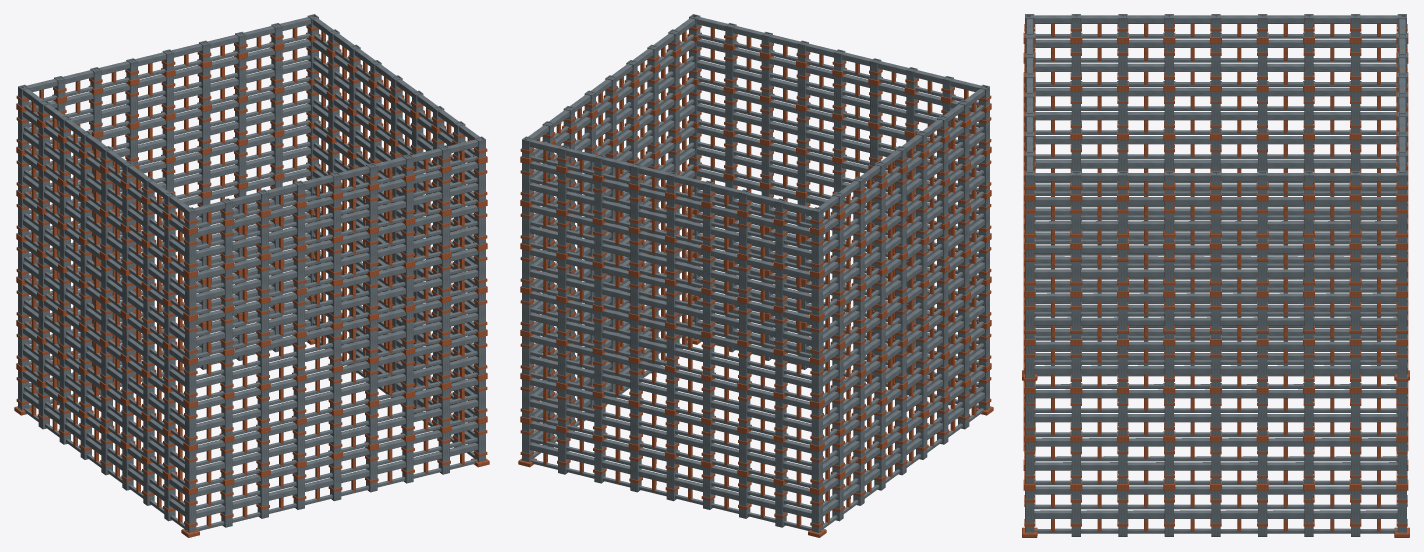
The picture shows the model from 3 angles, left to right: view 1: azimuth 30°, elevation 25°; view 2: azimuth 150°, elevation 25°; view 3: azimuth 270°, elevation 25°; orthographic projection. The views are drawn at different scales.
Size of the model in its own units: 3.75 by 3.86 by 3.75.
Materials: 2 (2 with a texture image).
